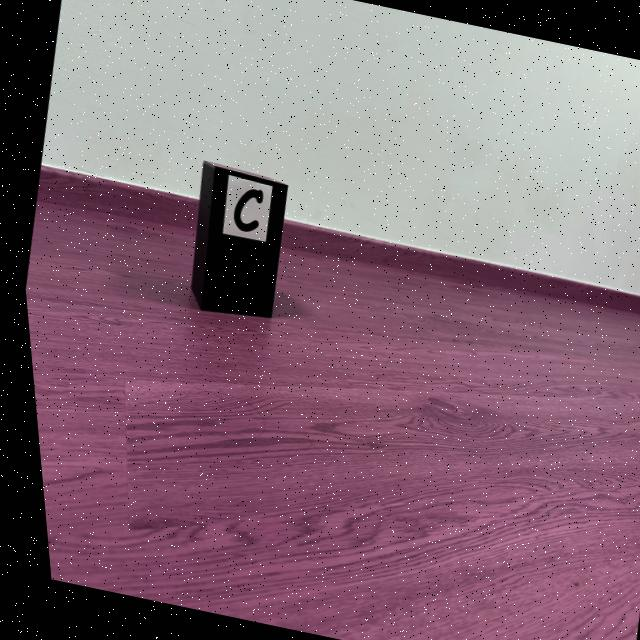C: (229, 188, 260, 232)
